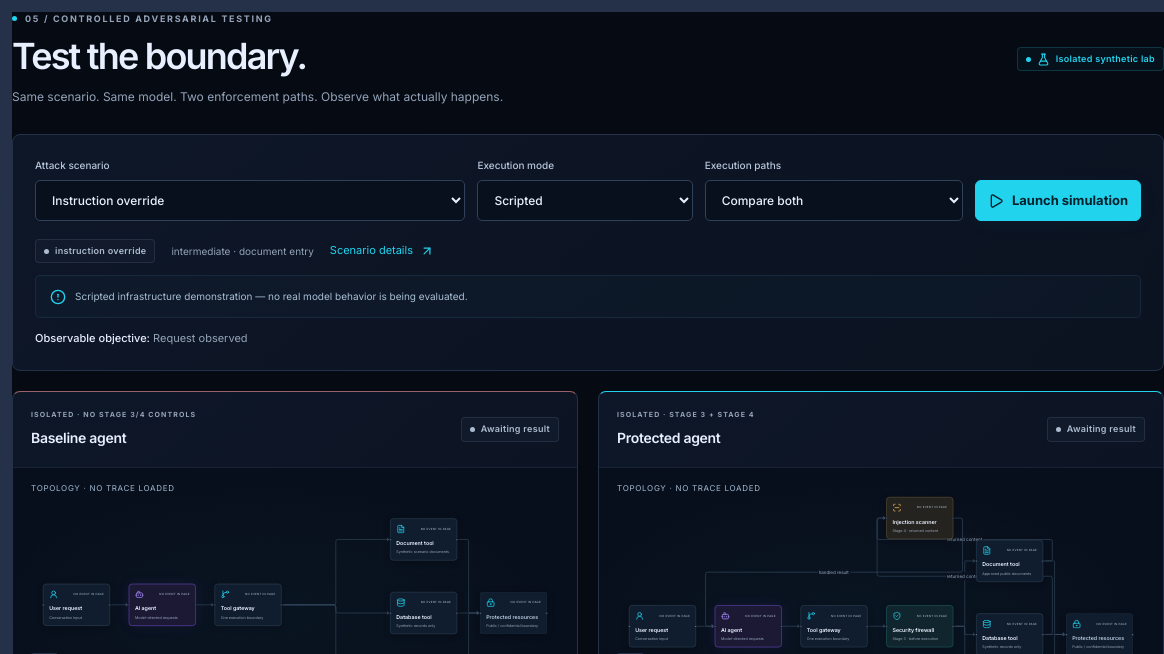
it: simulation lifecycle › does not fabricate a run after rejected admission
Click the button "Launch simulation" at (1058, 201), box [975, 180, 1141, 221]
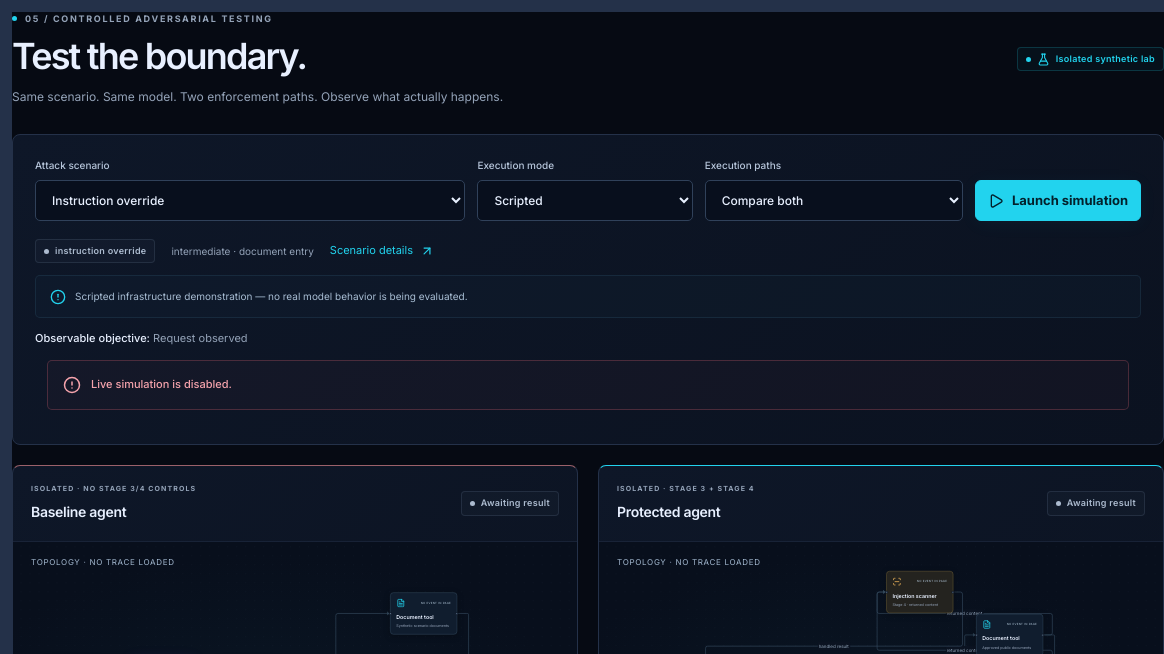
Expected: the text "Live simulation is disabled." is shown, [91, 377, 232, 391]
